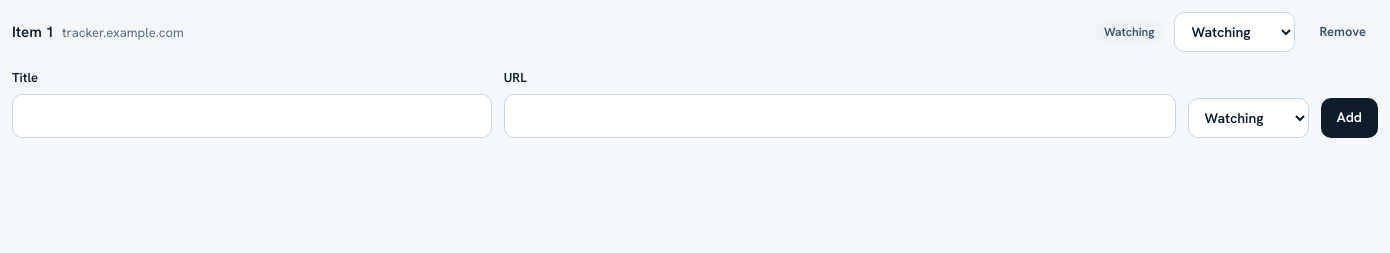
Test: RoadmapLinks › re-syncs from the server after a 409 on add
In the field labelled "Title": (252, 116) 12,94 -> 492,138, type "T"
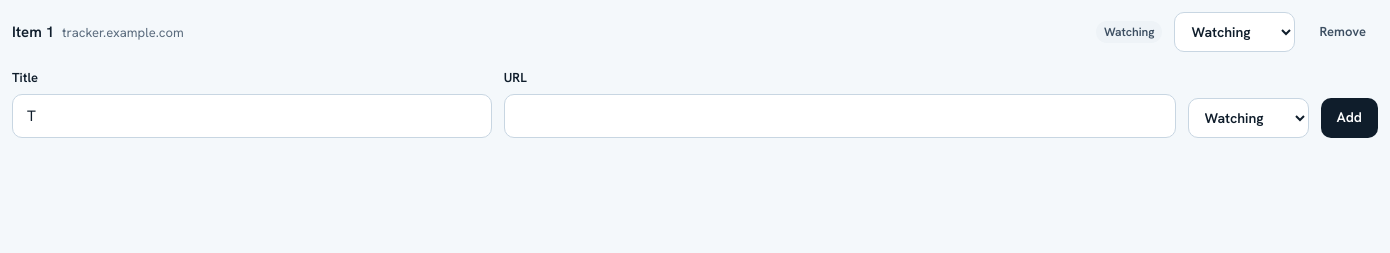
In the field labelled "URL": (840, 116) 504,94 -> 1176,138, type "https://a.example.org"
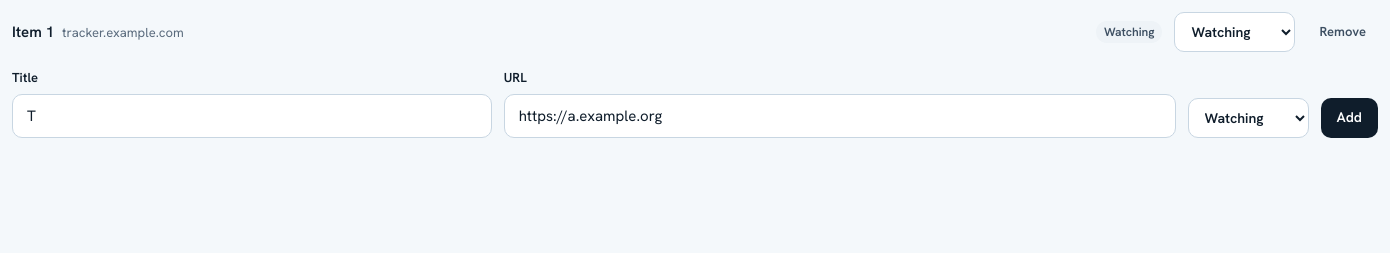
Click the button "Add": (1349, 118) 1320,98 -> 1378,138
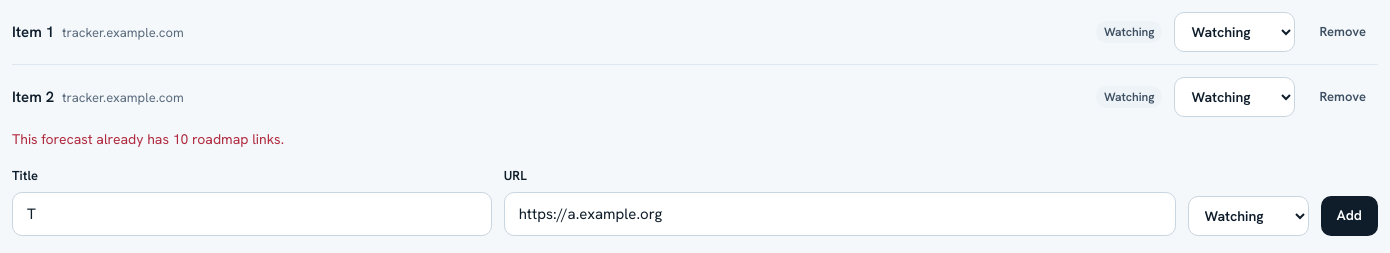
Now the message shows "already has 10 roadmap links", box 12,130 -> 284,148
Now the number of list items is 2, box 12,12 -> 1378,65; 12,65 -> 1378,117
